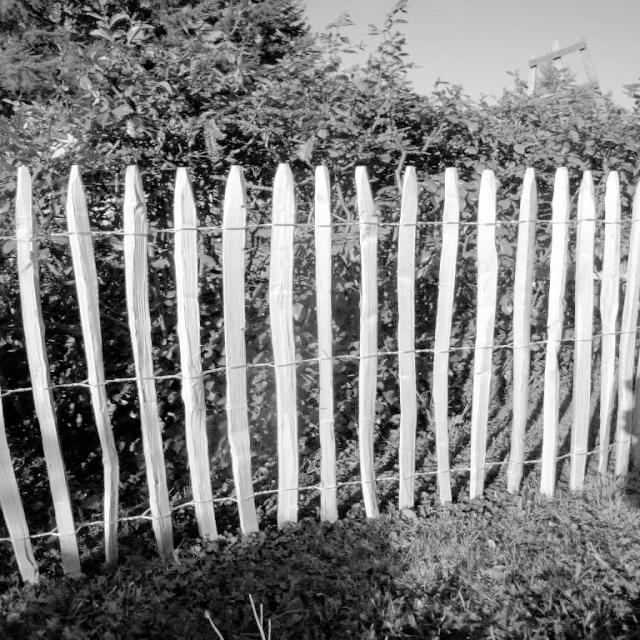fences: (9, 167, 640, 501)
